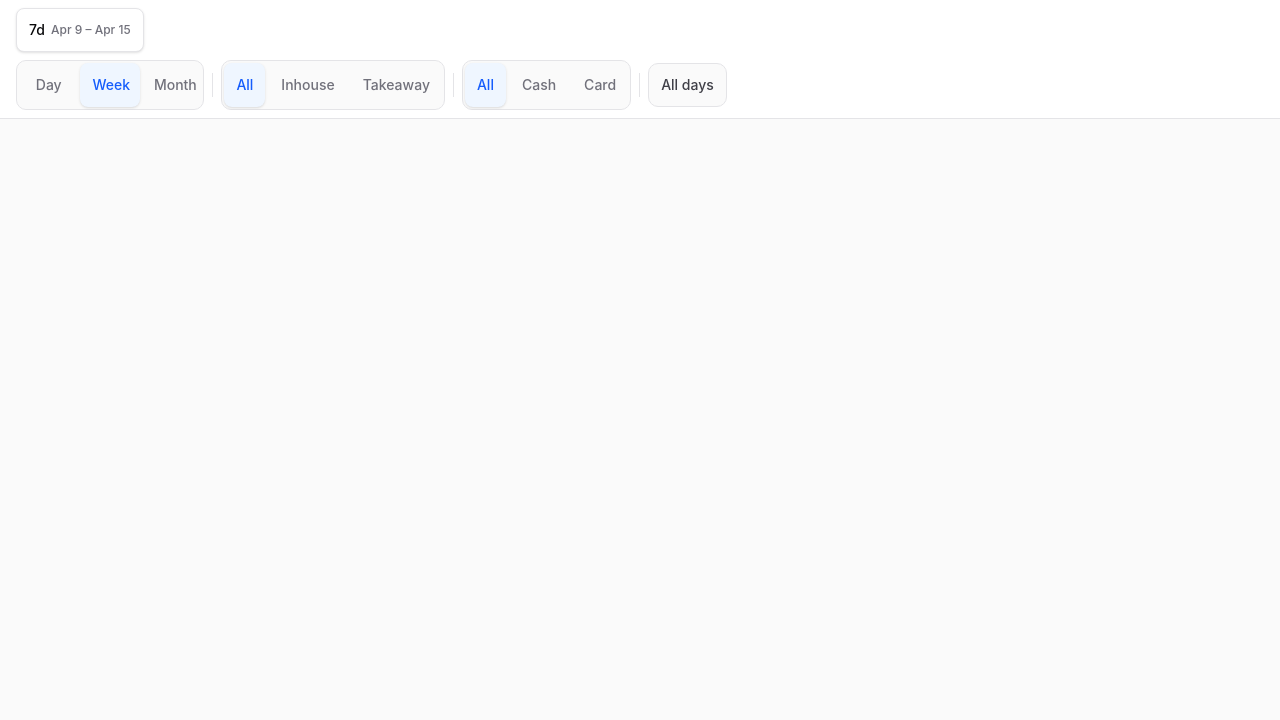
FilterBar Days popover › renders 7 day checkboxes (Mon..Sun) + Weekdays preset when opened
Trigger renders inline — click it to open the popover.
Click the button with test id "days-popover-trigger": {"x": 687, "y": 85} [648,63,727,107]
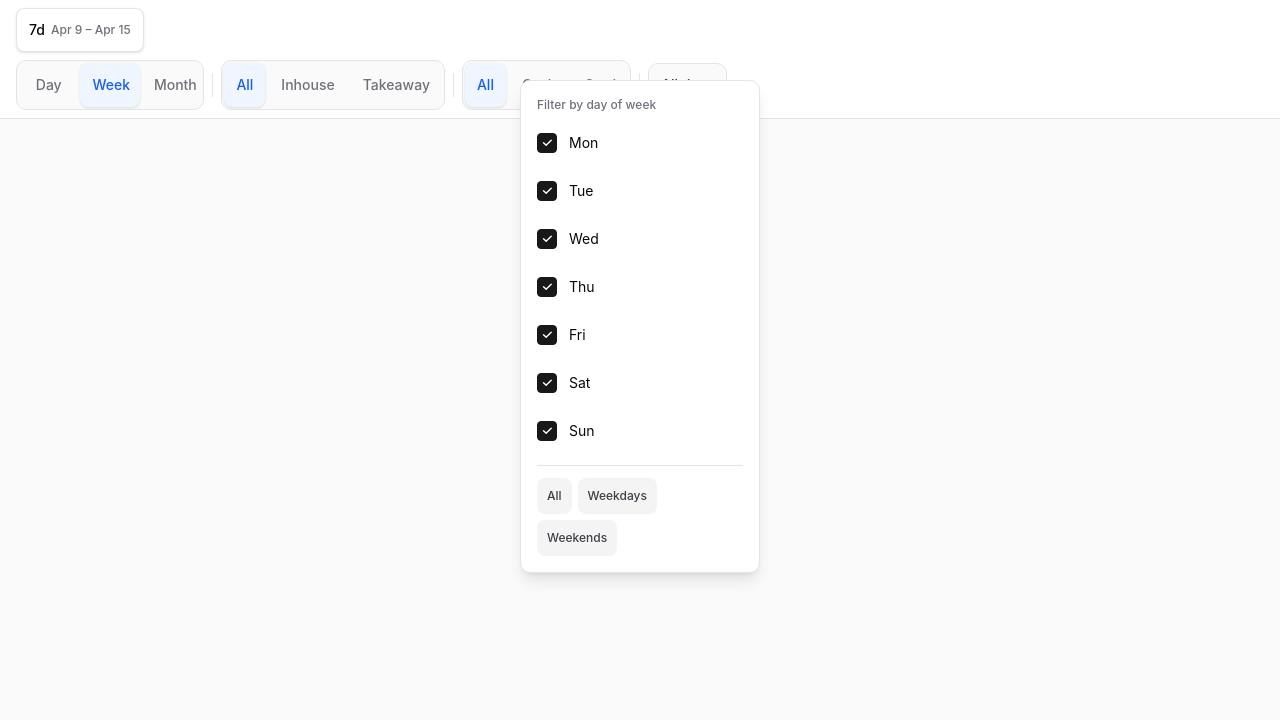
Result: the element with test id "days-popover-content" is shown at [537,97,657,556]
Result: the element with test id "days-popover-content" shows "Mon" at [569,134,598,151]
Result: the element with test id "days-popover-content" shows "Tue" at [569,182,594,199]
